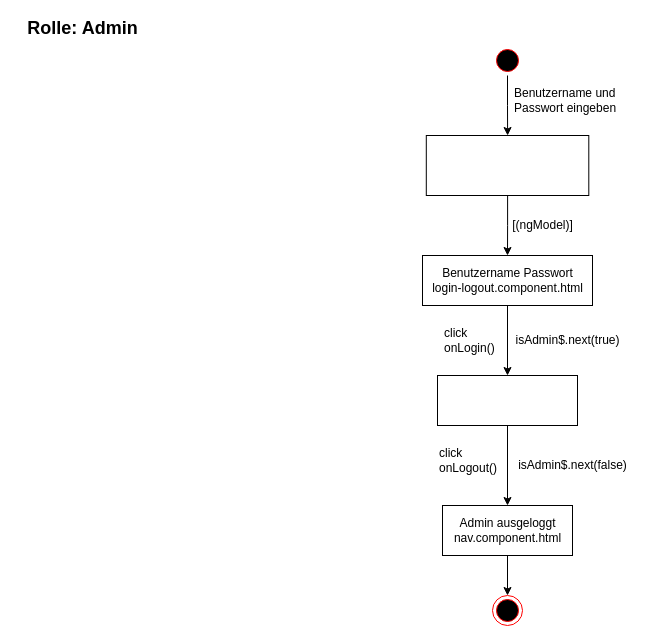
The diagram is 649 pixels wide and 643 high, and some of its shapes have lost their labels. The box of each missing label's shape, as (x1, y1, x2, y2) in pixels:
Admin eingeloggt nav.component.html: (436, 374, 578, 426)
login-logout.component.html: (425, 134, 589, 196)
